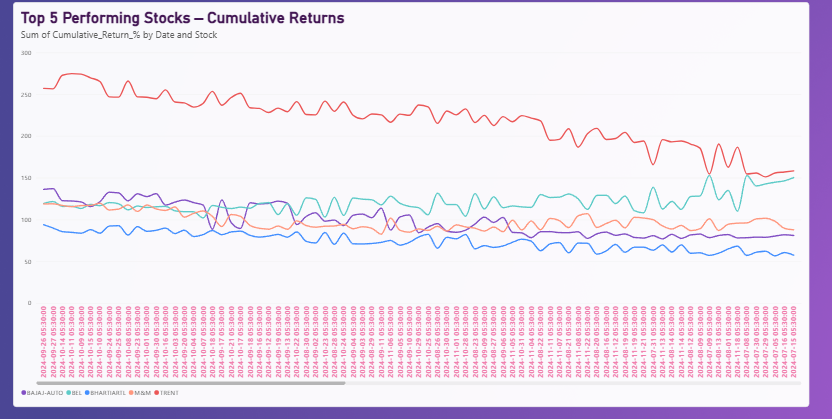

The dashboard page shown, as its layout file describes it:
{"tool":"powerbi","page":{"name":"Page 4","canvas":[1920,1080],"ordinal":3},"visuals":[{"type":"lineChart","title":"CUMULATIVE RETURNS COMPARISON -TOP 5 NIFTY 50 STOCKS","fields":{"Category":["stock_analysis top_5_cumulative_returns.Date"],"Series":["stock_analysis top_5_cumulative_returns.Stock"],"Y":["Sum(stock_analysis top_5_cumulative_returns.Cumulative_Return_%)"]},"box":[0,0,1534.8,685.5],"z":0}]}

Visuals, with their boxes on the page's 1920x1080 design canvas (x1, y1, x2, y2). These are canvas units, not pixel positions in the 832x419 screenshot, which may show the page scaled, cropped or inside an application window:
"CUMULATIVE RETURNS COMPARISON -TOP 5 NIFTY 50 STOCKS" lineChart: pyautogui.locateOnScreen(0, 0, 1535, 686)
